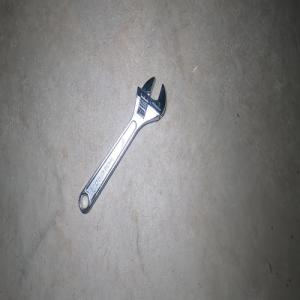Wrench: (78, 76, 166, 213)
